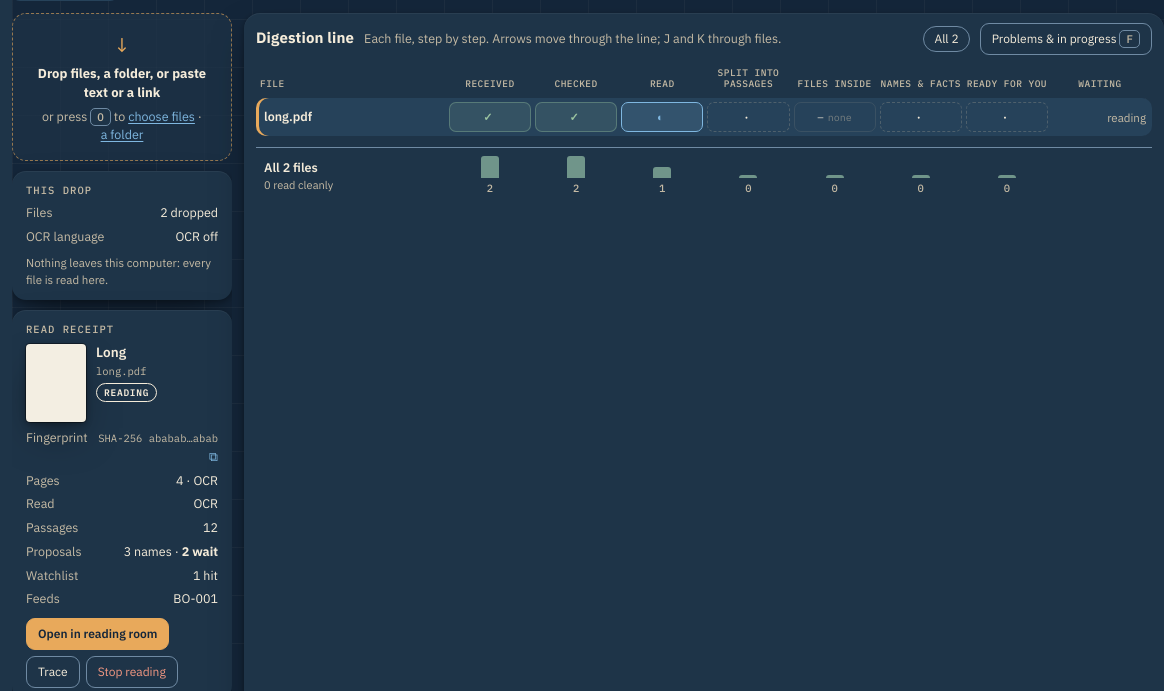
The Drop › stops a file being read
Click the button "Stop reading". click: x=132, y=672
box: x1=86 y1=656 x2=178 y2=688
(page scrolled)
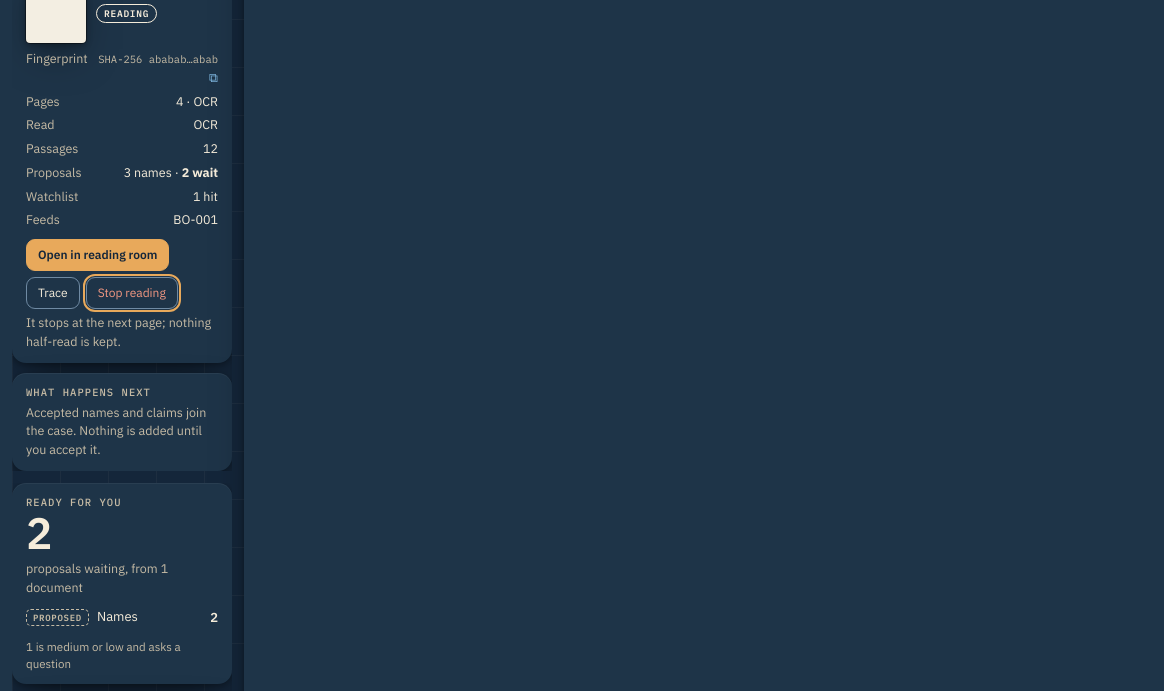
Expected: the text "It stops at the next page; nothing half-read is kept." is shown, x1=26 y1=313 x2=218 y2=350
